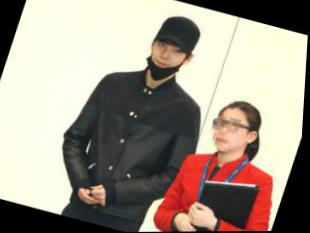WRONG: (141, 34, 191, 82)
